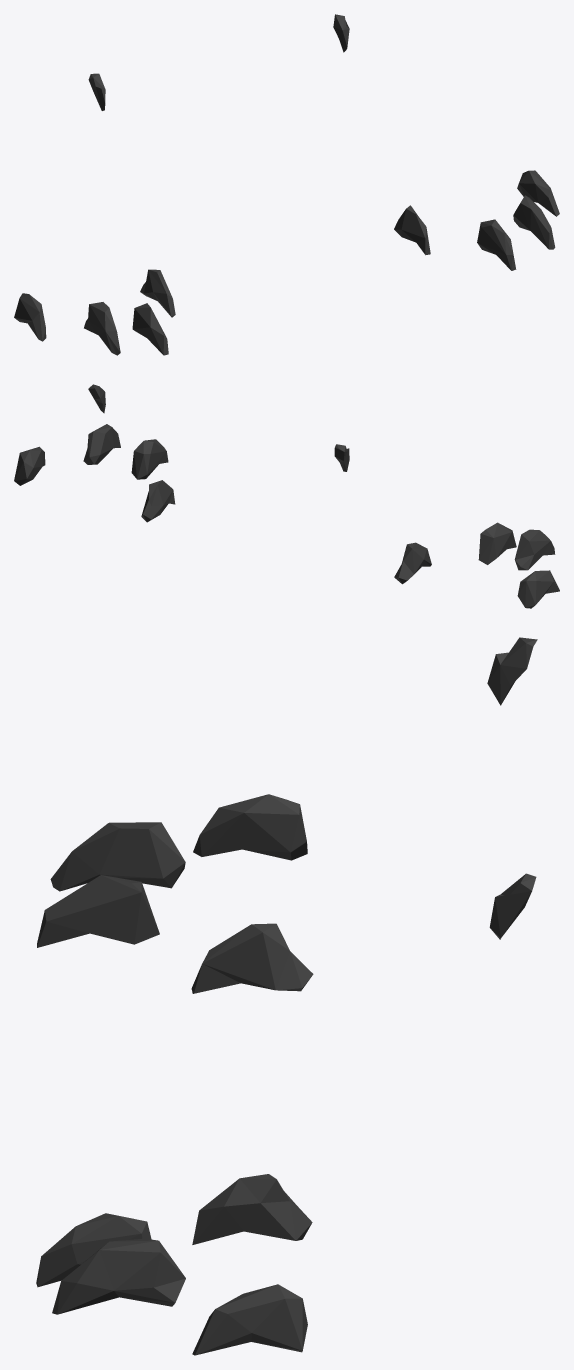
File: FL_nails.glb
The picture shows the model from 3 angles, top to bottom: view 1: azimuth 30°, elevation 25°; view 2: azimuth 150°, elevation 25°; view 3: azimuth 270°, elevation 25°; orthographic projection. The views are drawn at different scales.
Parts seen in each view (by area): view 1: FL_nails; view 2: FL_nails; view 3: FL_nails.
Part boxes in pixels (x1,y1,x2,y2): FL_nails: (14,14,559,355); FL_nails: (14,384,559,608); FL_nails: (36,637,537,1355).
Size of the model in its own units: 0.00465 by 0.00154 by 0.00194.
Materials: 1 (1 with a texture image).
